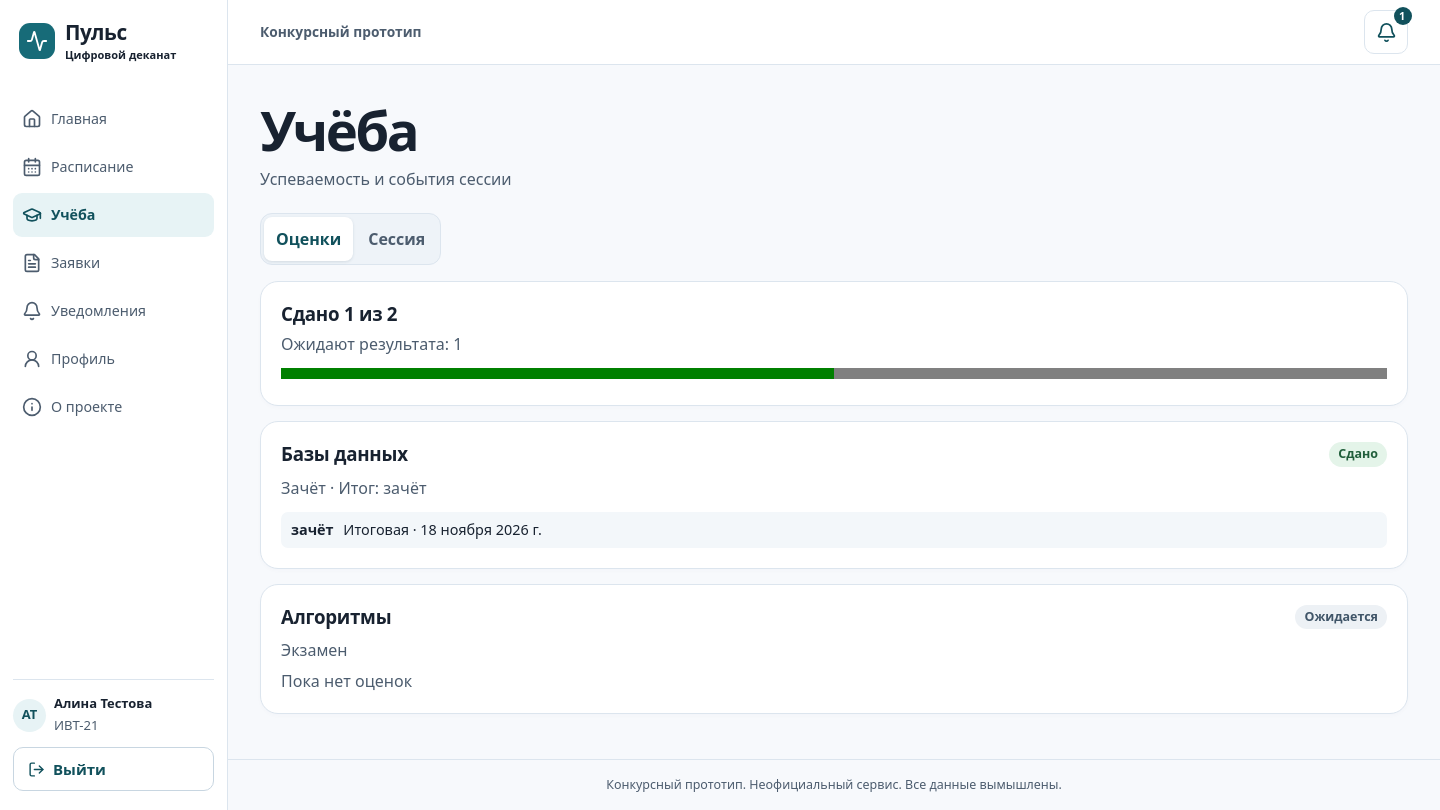
Scenario: Расписание и успеваемость › показывает оценки, отсутствие оценок и вкладку сессии
This screenshot has width=1440, height=810.
Check: the heading "Сдано 1 из 2" is shown, box [281,301,397,326]
Check: the text "Пока нет оценок" is shown, box [281,670,412,692]
Click the button "Сессия" at (397, 239), box [356,217,437,261]
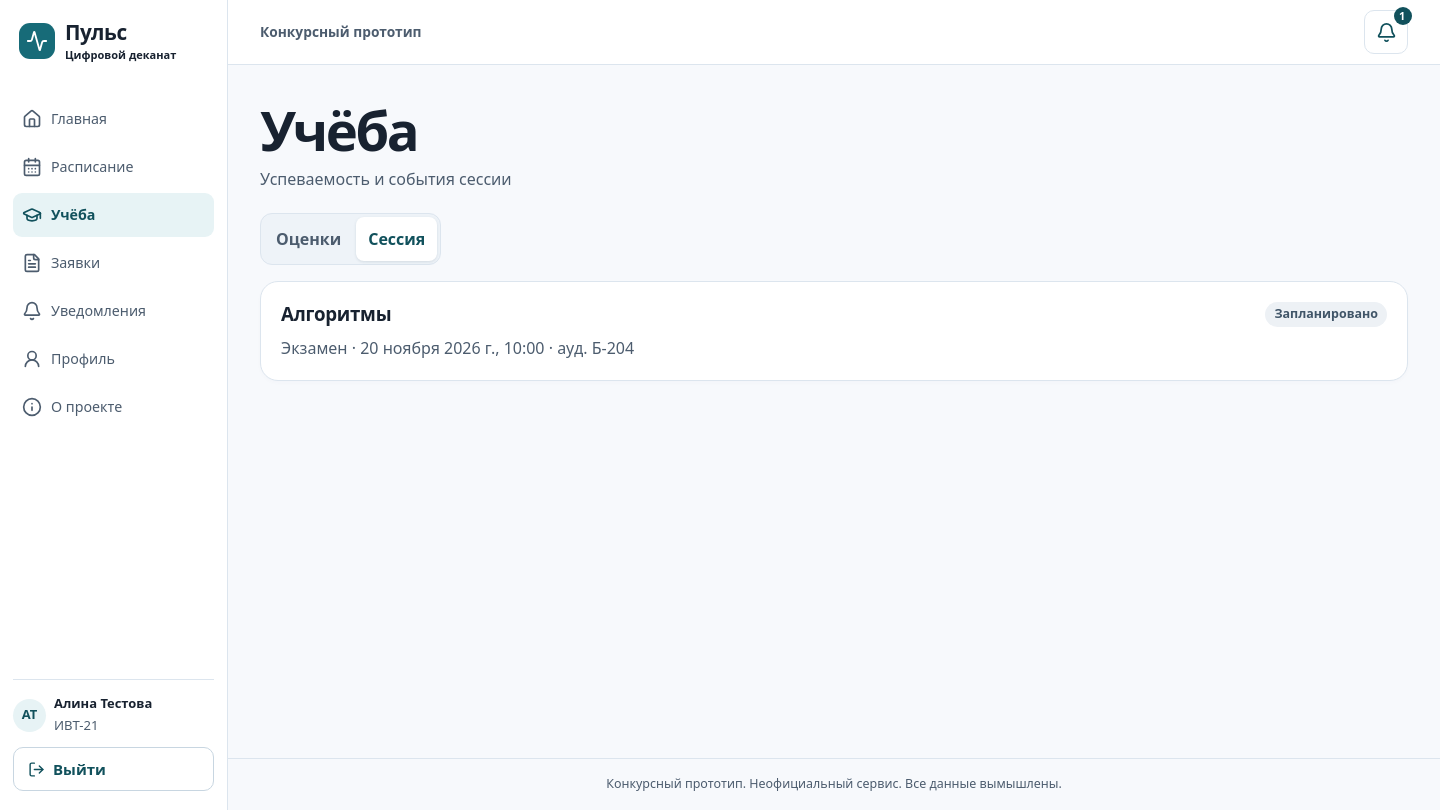
Check: the heading "Алгоритмы" is shown, box [281,302,391,325]
Check: the text "Запланировано" is shown, box [1266,302,1387,326]
Click the button "Оценки" at (309, 239), box [264,217,353,261]
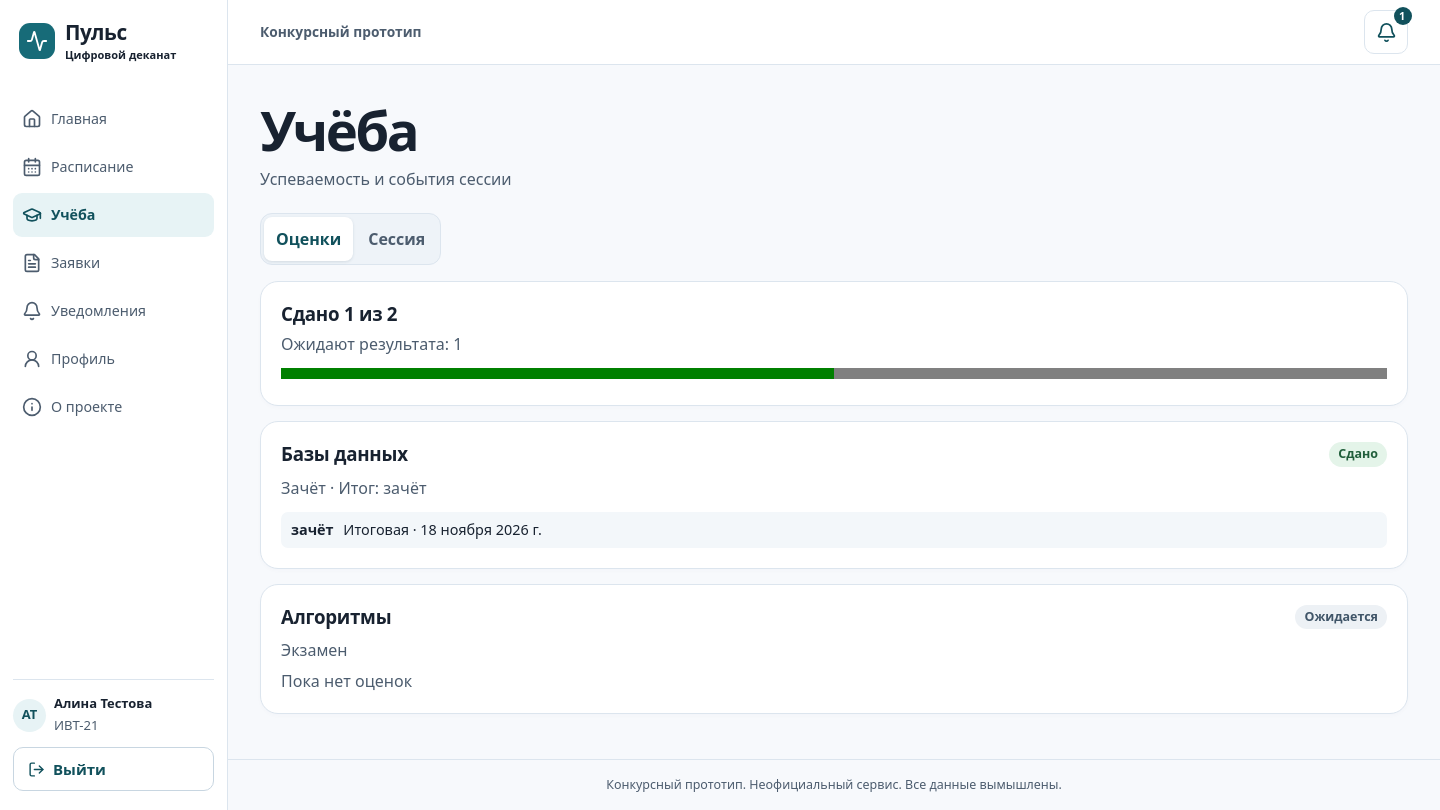
Check: the heading "Сдано 1 из 2" is shown, box [281,301,397,326]
